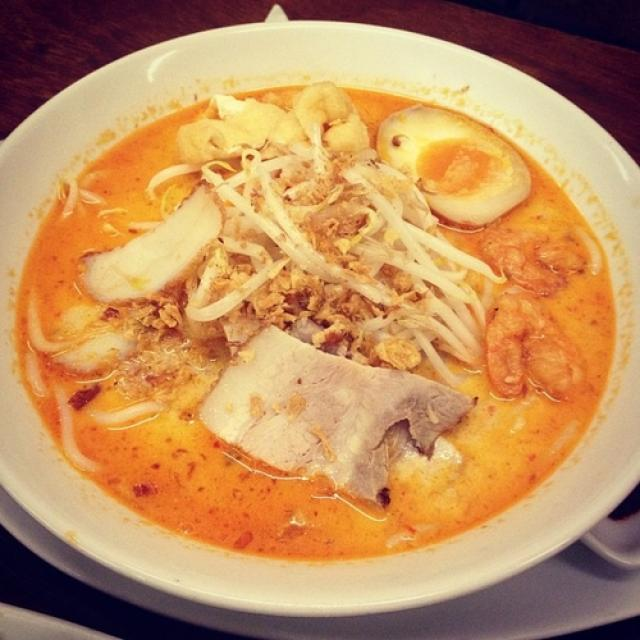面条主食: (32, 58, 620, 613)
